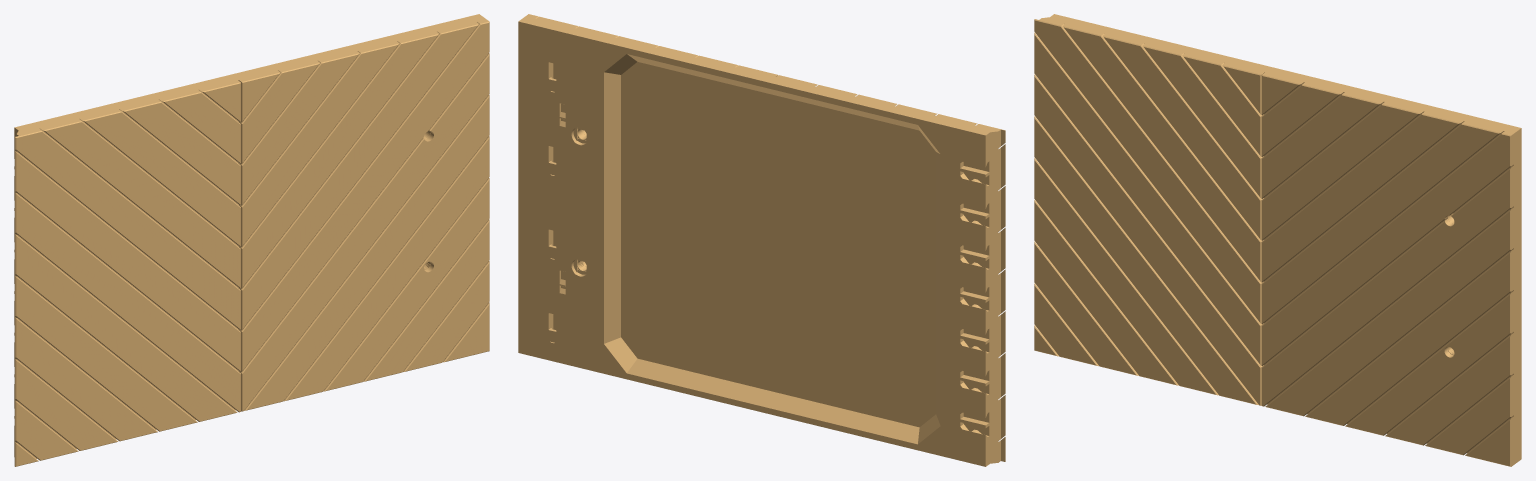
Rendered from Door_Chevron_2W-2H.lib.glb.
The picture shows the model from 3 angles, left to right: view 1: azimuth 30°, elevation 25°; view 2: azimuth 150°, elevation 25°; view 3: azimuth 330°, elevation 25°; orthographic projection.
Visible parts, largest first — view 1: Door_Chevron_2W-2H; view 2: Door_Chevron_2W-2H; view 3: Door_Chevron_2W-2H.
Part boxes in pixels (box(x1,y1,x2,y2)): Door_Chevron_2W-2H: box(14, 14, 489, 466); Door_Chevron_2W-2H: box(518, 14, 1005, 466); Door_Chevron_2W-2H: box(1034, 14, 1521, 466).
Size of the model in its own units: 167 by 111 by 6.51.
